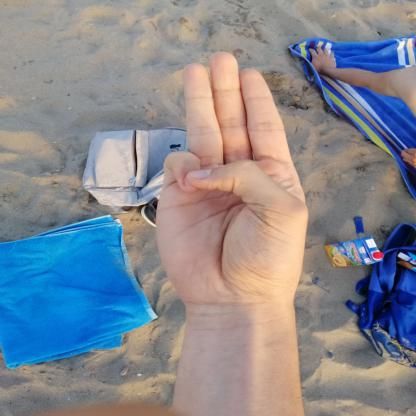THA: (138, 40, 326, 322)
